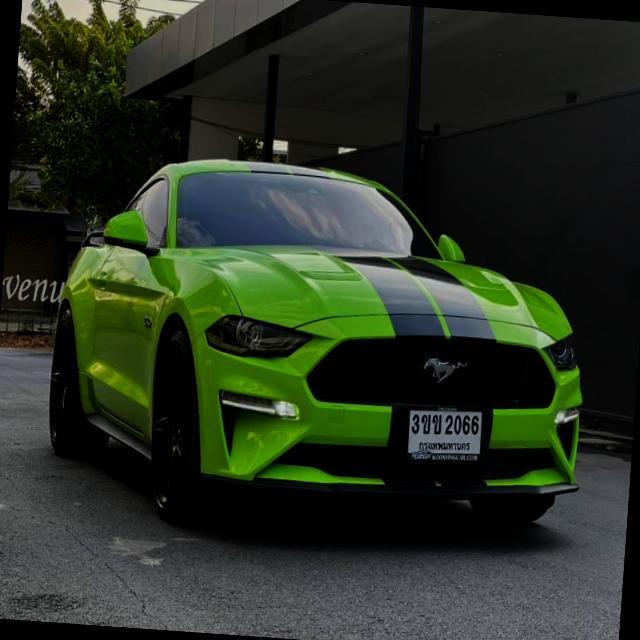license_plate: (401, 402, 488, 468)
